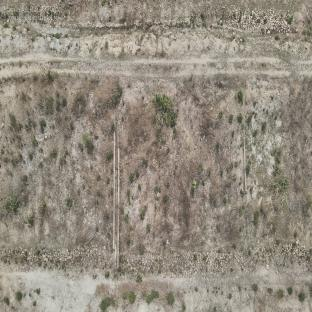rock_toe: (118, 249, 245, 281), (0, 245, 109, 273), (258, 241, 312, 274)
slope_drain: (112, 103, 121, 268), (239, 129, 248, 206)
